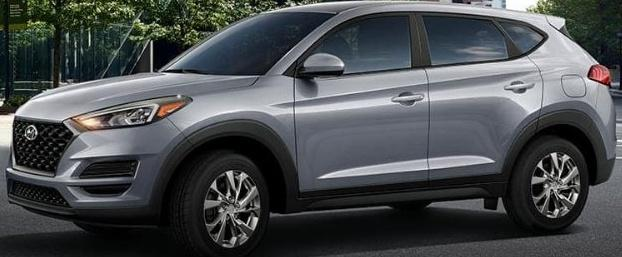SUV: (5, 2, 616, 255)
